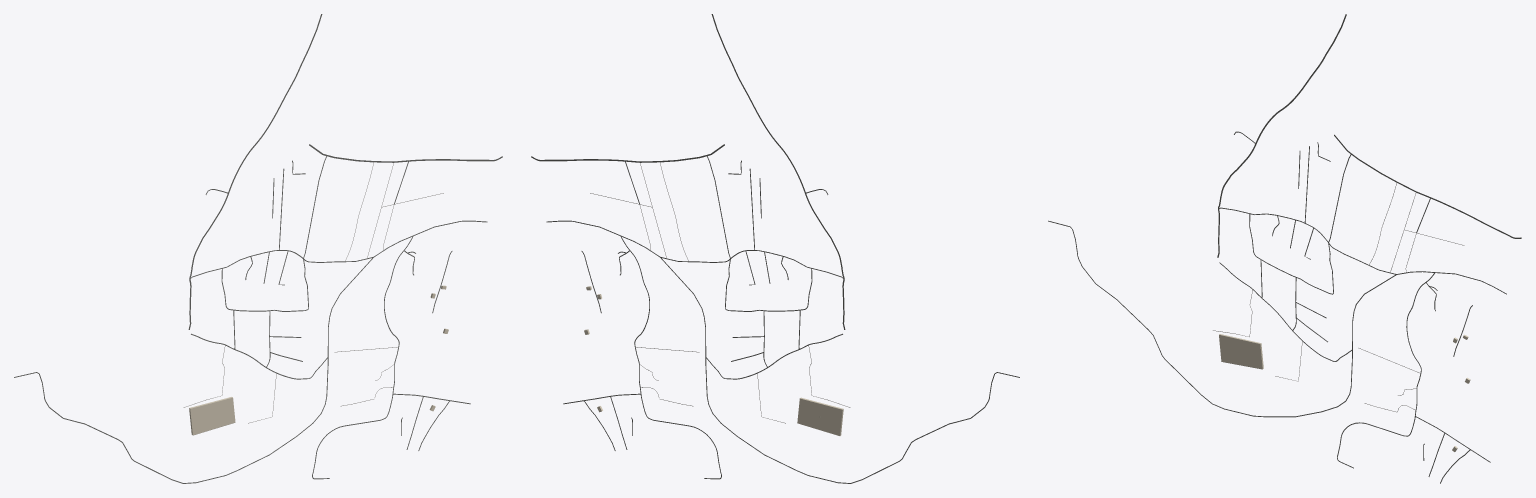
Rendered from historic-palestine-08_28_3502_3229.glb.
3 views of the same model, side by side, from view 1: azimuth 30°, elevation 25°; view 2: azimuth 150°, elevation 25°; view 3: azimuth 330°, elevation 25° (orthographic). The views are drawn at different scales.
Parts seen in each view (by area): view 1: Building_, Road .019, Road Ertah; view 2: Building_, Road .019, Road Ertah; view 3: Building_, Road .019, Road Ertah.
Part boxes in pixels (left/top/right/bottom): Building_: left=189, top=397, right=235, bottom=435; Road .019: left=14, top=220, right=487, bottom=483; Road Ertah: left=188, top=14, right=322, bottom=329; Building_: left=797, top=397, right=843, bottom=435; Road .019: left=546, top=220, right=1019, bottom=483; Road Ertah: left=711, top=14, right=845, bottom=329; Building_: left=1219, top=334, right=1263, bottom=369; Road .019: left=1048, top=220, right=1506, bottom=417; Road Ertah: left=1217, top=14, right=1346, bottom=257.
Bounding box in the file's own units: 1841 × 1681 × 8.7.
